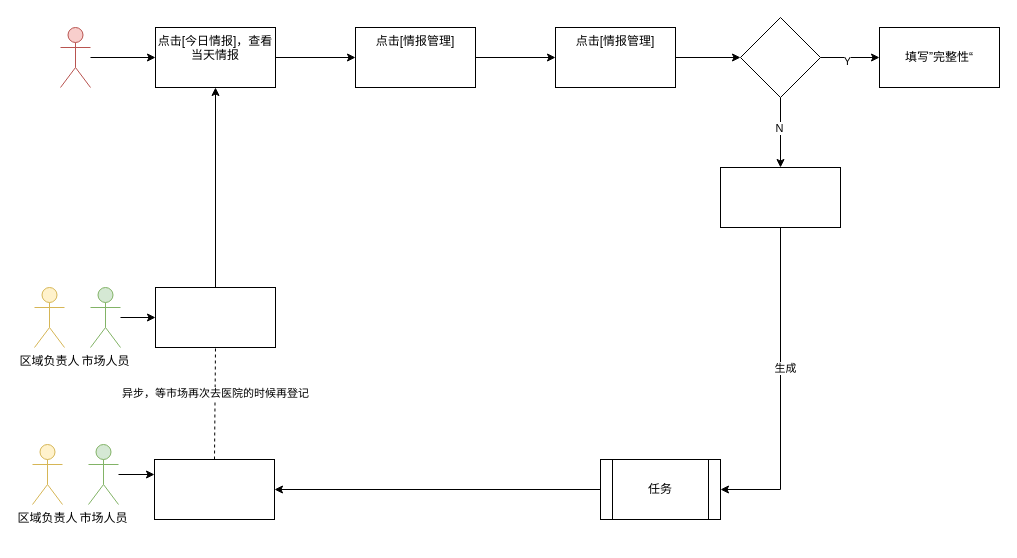
The diagram is 1017 pixels wide and 558 high, and some of its shapes have lost their labels. Each missing label, with the centre of its shape:
"创建任务【情报深挖】" belongs at [780,197].
"市场负责人" belongs at [75,57].
"情报完整" belongs at [780,57].
"点击【情报登记】创建情报" belongs at [215,317].
"点击【我的任务】" belongs at [214,489].
